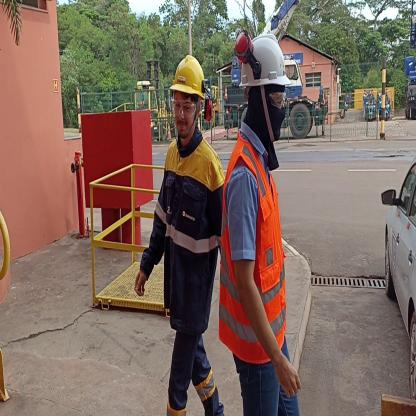Balaclava: (242, 88, 286, 141)
C_eletrica: (143, 136, 221, 341)
Capacete: (237, 27, 294, 86), (168, 54, 208, 96)
colete: (219, 143, 294, 361)
